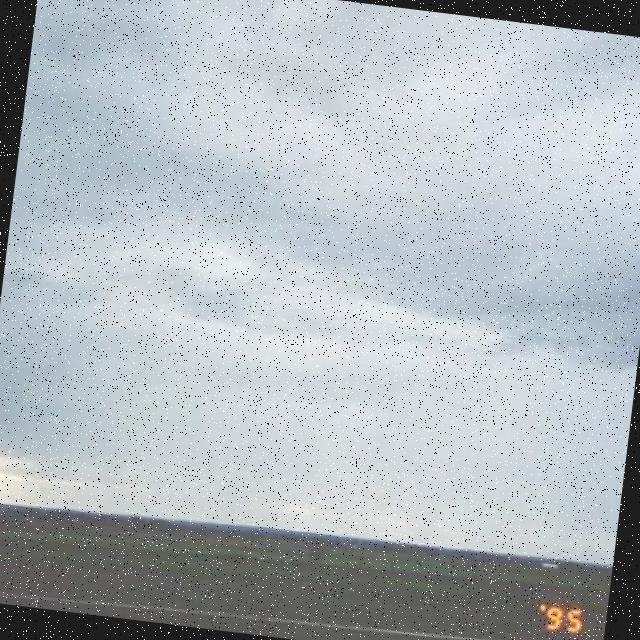Ns: (1, 56, 640, 479)
